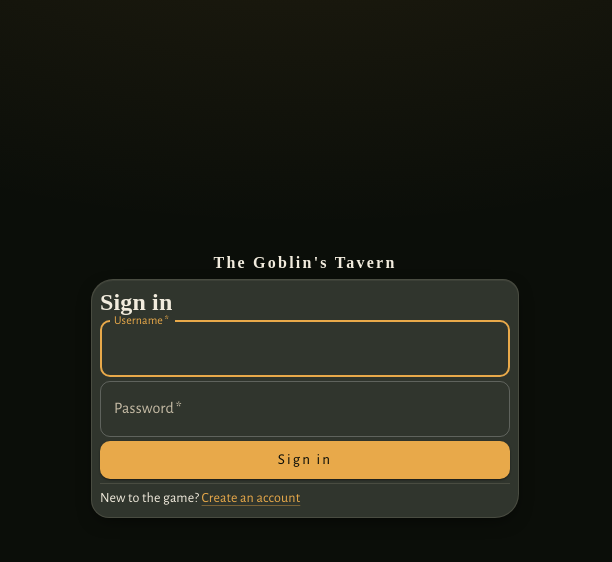
SignInRoute (UI-1 … UI-12) › UI-10: a network failure shows the network copy and preserves both values
The width and height of the screenshot is (612, 562).
Type "thorin" into the field labelled "Username *" at (305, 349), box 100,321 -> 510,377
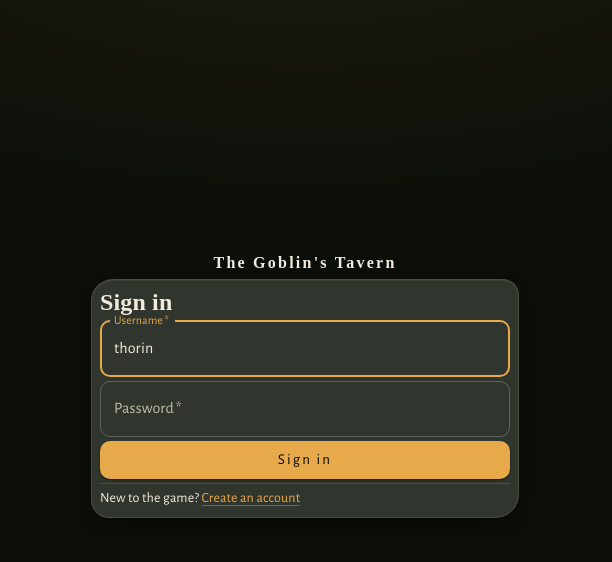
Type "hunter-of-orcs" into the password field labelled "Password *" at (305, 409), box 100,381 -> 510,437
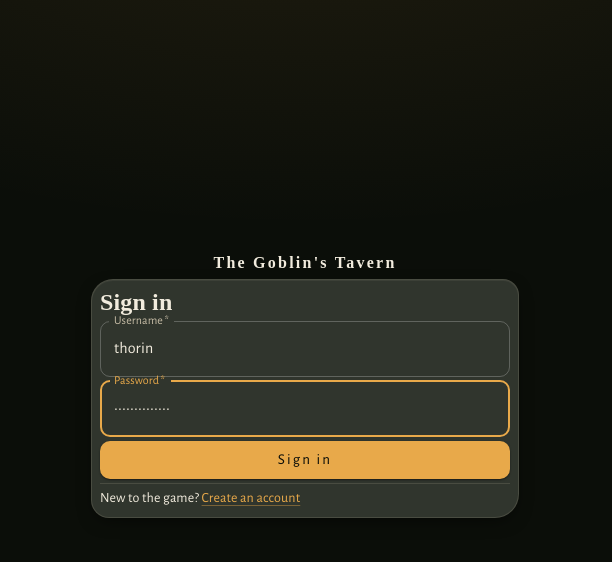
Click the button "Sign in" at (305, 460), box 100,441 -> 510,479
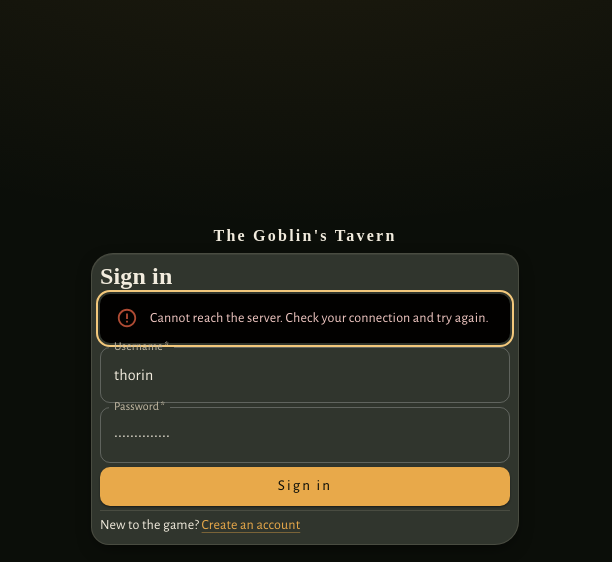
Expected: the message reads "Cannot reach the server. Check your connection and try again.", 150,311 -> 489,325
